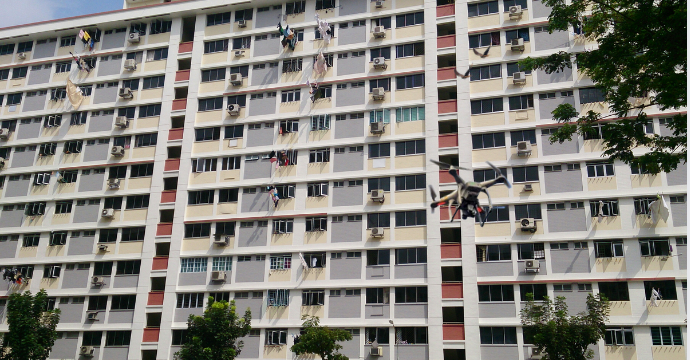drone_other: (426, 157, 512, 227)
